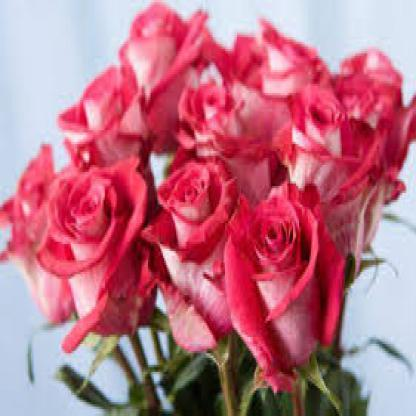Rose-Mawar: (6, 4, 416, 364)
